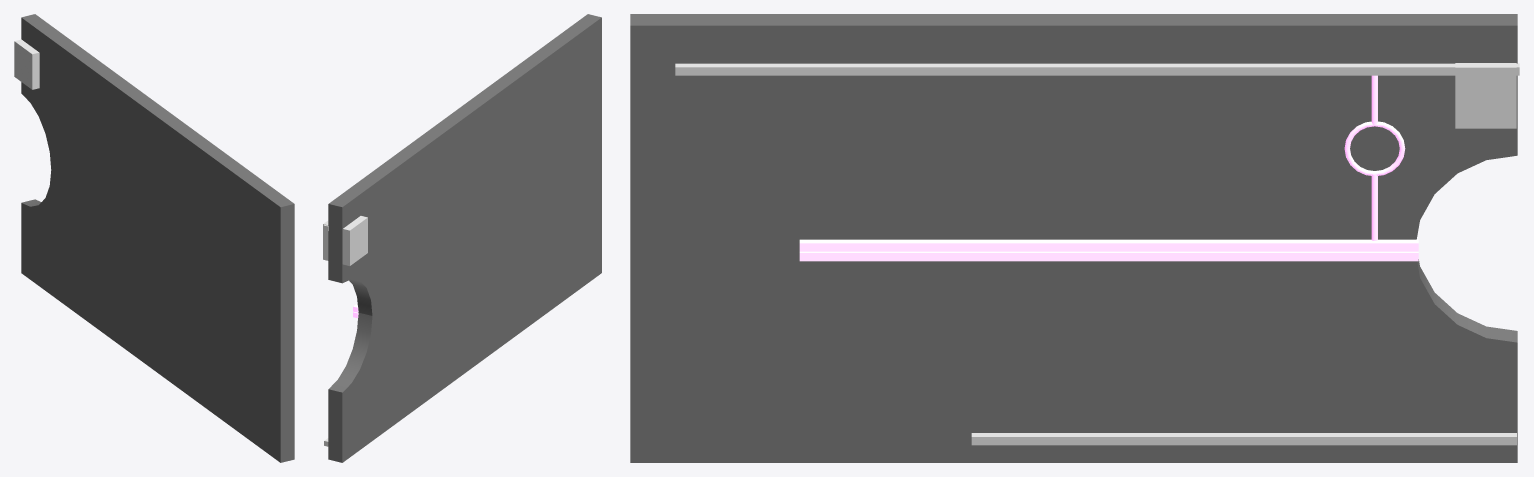
The model's file is leftDoor.gltf.
3 renders of one model, left to right at view 1: azimuth 30°, elevation 25°; view 2: azimuth 150°, elevation 25°; view 3: azimuth 270°, elevation 25°, orthographic. The views are drawn at different scales.
Parts seen in each view (by area): view 1: pasted__pasted__pasted__pasted__pasted__pCube64; view 2: pasted__pasted__pasted__pasted__pasted__pCube64; view 3: pasted__pasted__pasted__pasted__pasted__pCube64.
Part boxes in pixels (x1,y1,x2,y2): pasted__pasted__pasted__pasted__pasted__pCube64: (14,14,294,462); pasted__pasted__pasted__pasted__pasted__pCube64: (323,14,601,462); pasted__pasted__pasted__pasted__pasted__pCube64: (630,14,1519,462).
Size of the model in its own units: 0.014 by 0.1272 by 0.2344.
